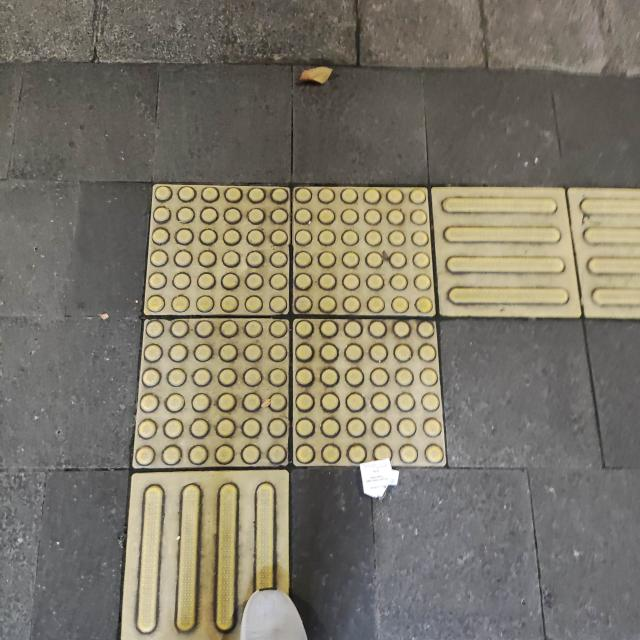kanan: (68, 148, 639, 504)
